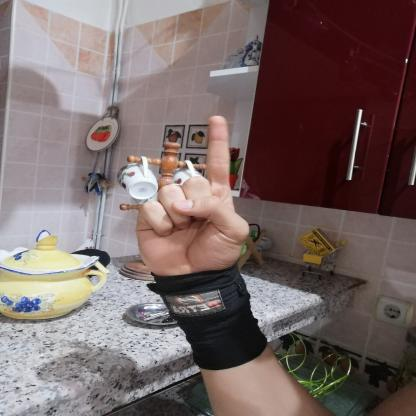BAA: (121, 102, 267, 288)
